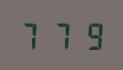nine: (75, 20, 102, 50)
seven: (18, 20, 45, 50), (47, 20, 74, 50)
